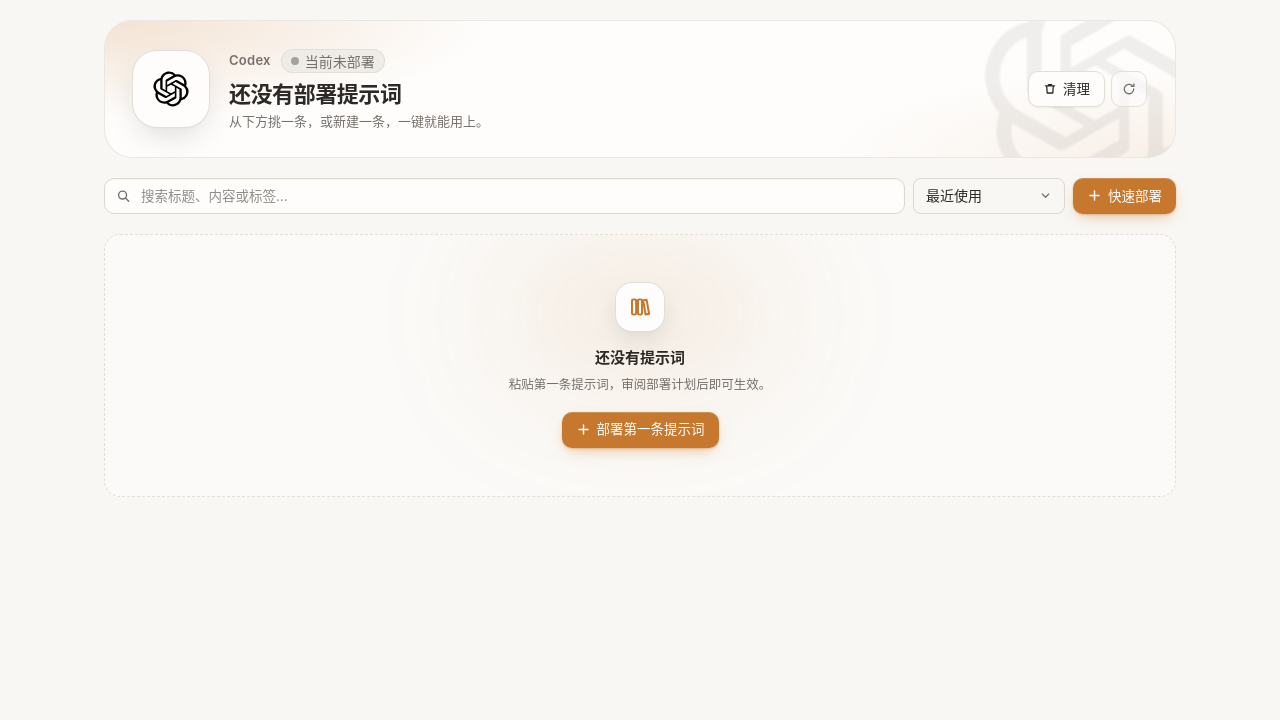
Workspace: Quick Deploy composer › reads the machine once per run and opens an editable composer
Expected: the heading "Codex" is shown, [229,51,271,71]
Click the button with test id "quick-deploy-open". click: (1124, 196)
box: [1073,178,1176,214]
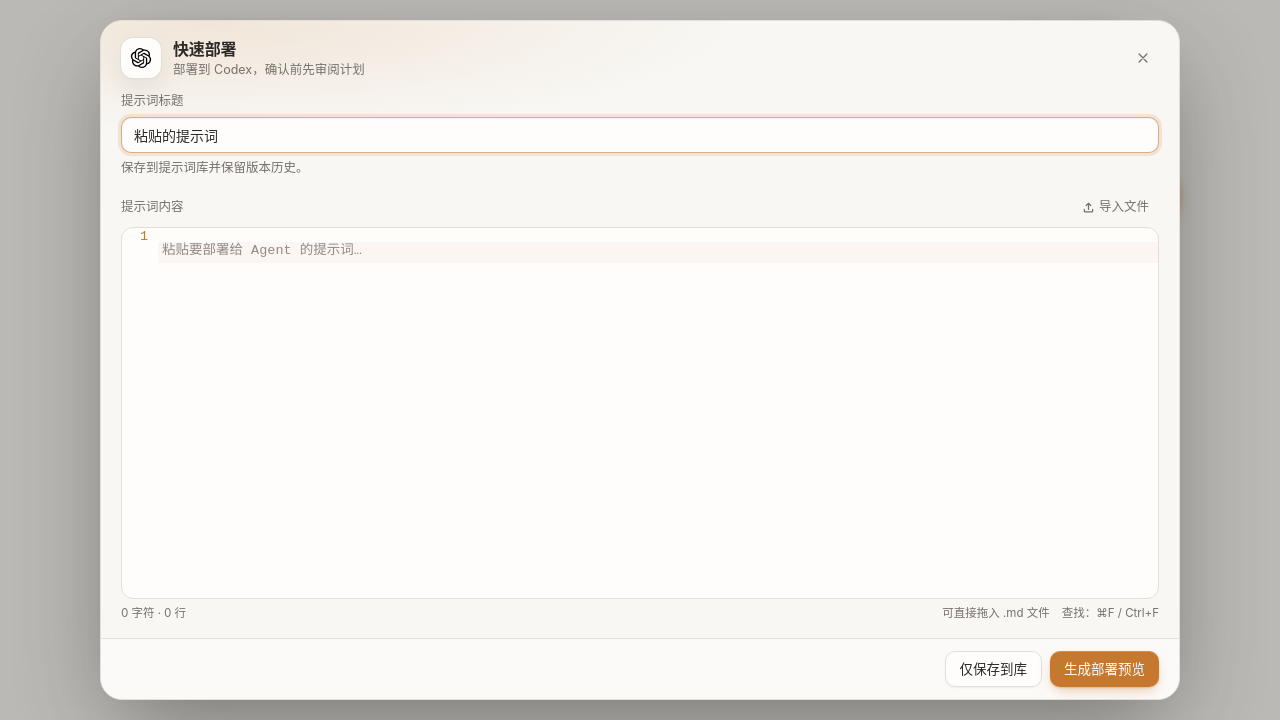
Expected: the field with test id "quick-deploy-title" holds "粘贴的提示词", [121,116,1159,152]
Expected: the field named "提示词内容" is shown, [158,242,1158,263]
Expected: the button with test id "quick-deploy-submit" reads "生成部署预览", [1050,651,1159,687]
